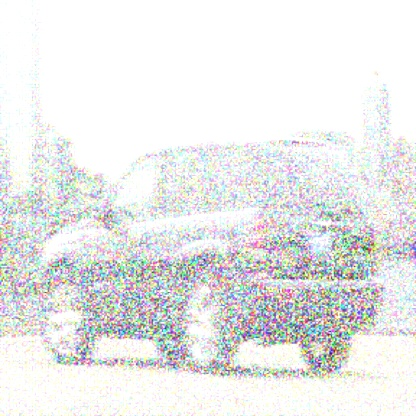Vehicle: (37, 134, 386, 379)
